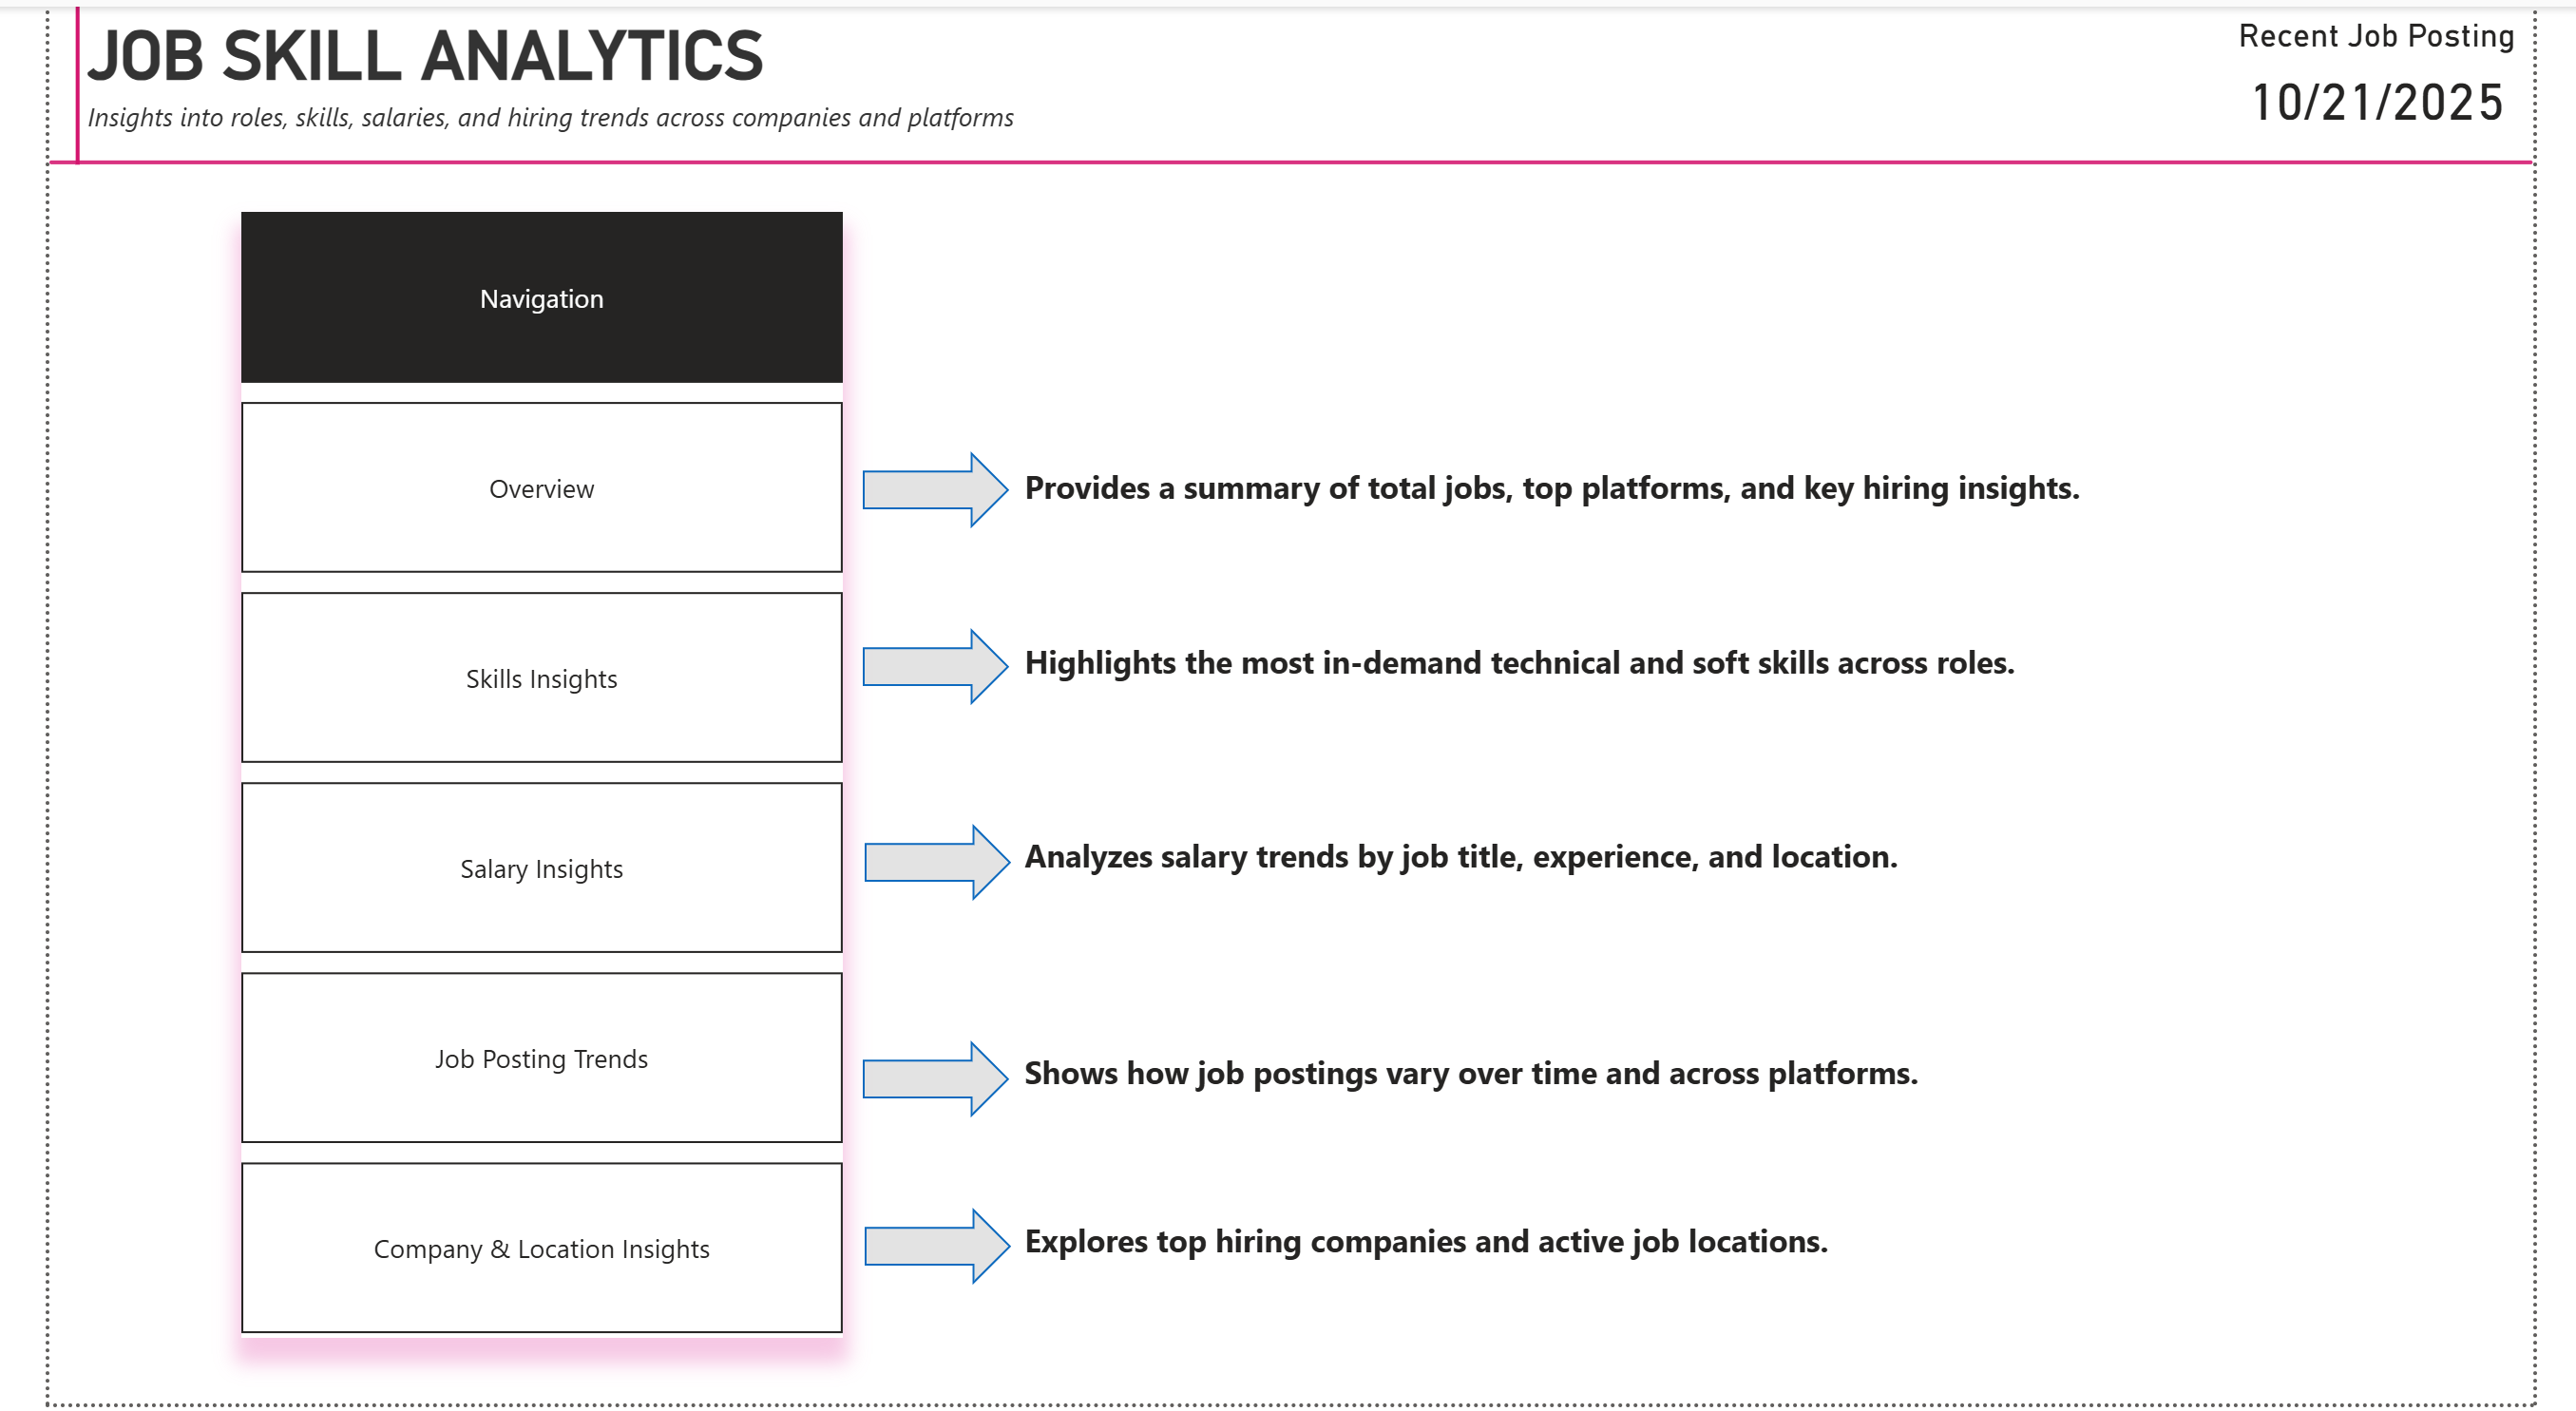

The dashboard page shown, as its layout file describes it:
{"tool":"powerbi","page":{"name":"Navigation","canvas":[1280,720],"ordinal":0},"visuals":[{"type":"pageNavigator","box":[98.8,105.7,310.1,580.4],"z":0},{"type":"shape","box":[0,70,1280,21.4],"z":1000},{"type":"textbox","box":[98.6,4.3,421.4,62.9],"z":3000},{"type":"shape","box":[0,0,29.1,81.5],"z":4000},{"type":"card","title":"Recent Job Posting","fields":{"Values":["job_data.Recent job date"]},"box":[1119.8,4.9,160.2,66],"z":5000},{"type":"textbox","title":"JOB SKILL ANALYTICS","box":[15.1,4.7,555.1,91.9],"z":6000},{"type":"textbox","box":[497.2,230.7,574.1,39.8],"z":7000},{"type":"textbox","box":[497.2,321.4,550.7,39.8],"z":8000},{"type":"textbox","box":[497.2,421.6,479.3,39.8],"z":9000},{"type":"textbox","box":[497.2,532.9,512.3,39.8],"z":10000},{"type":"textbox","box":[497.2,601.5,502.7,57.7],"z":11000},{"type":"shape","box":[418.9,229.4,75.5,39.8],"z":12000},{"type":"shape","box":[418.9,320,75.5,39.8],"z":13000},{"type":"shape","box":[420.3,421.6,75.5,39.8],"z":14000},{"type":"shape","box":[418.9,532.9,75.5,39.8],"z":15000},{"type":"shape","box":[420.3,619.4,75.5,39.8],"z":16000}]}

Visuals, with their boxes in screenshot pixels (x1, y1, x2, y2), scaled from the page's 1280x720 canvas onto the 2576x1411 screenshot:
pageNavigator: locate(199, 207, 823, 1344)
shape: locate(0, 137, 2575, 180)
textbox: locate(199, 9, 1046, 132)
shape: locate(0, 0, 59, 160)
"Recent Job Posting" card: locate(2254, 10, 2575, 139)
"JOB SKILL ANALYTICS" textbox: locate(30, 10, 1148, 189)
textbox: locate(1001, 452, 2156, 530)
textbox: locate(1001, 630, 2109, 708)
textbox: locate(1001, 827, 1965, 905)
textbox: locate(1001, 1044, 2032, 1122)
textbox: locate(1001, 1179, 2013, 1292)
shape: locate(843, 449, 995, 527)
shape: locate(843, 627, 995, 705)
shape: locate(846, 827, 998, 905)
shape: locate(843, 1044, 995, 1122)
shape: locate(846, 1214, 998, 1292)
